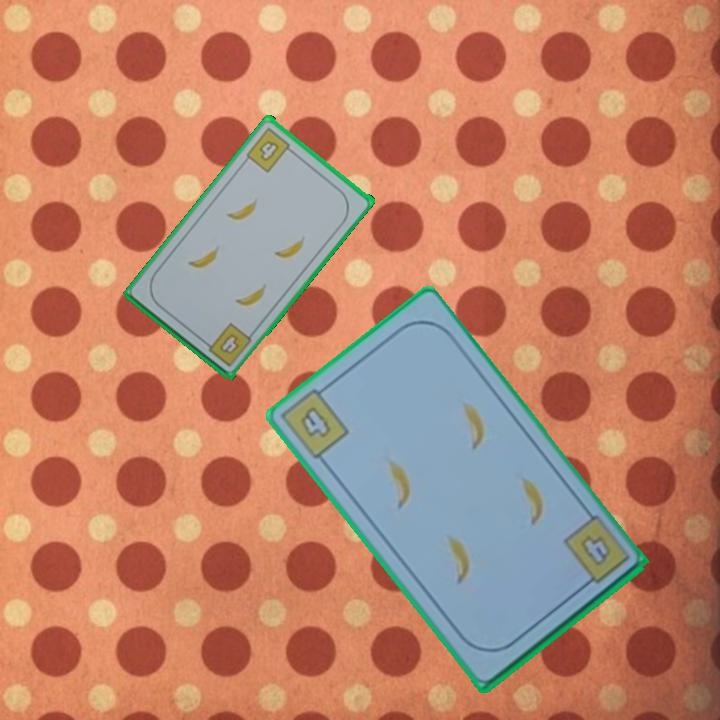4b: (280, 381, 352, 463), (242, 123, 298, 175), (199, 319, 255, 369), (576, 531, 614, 570)
